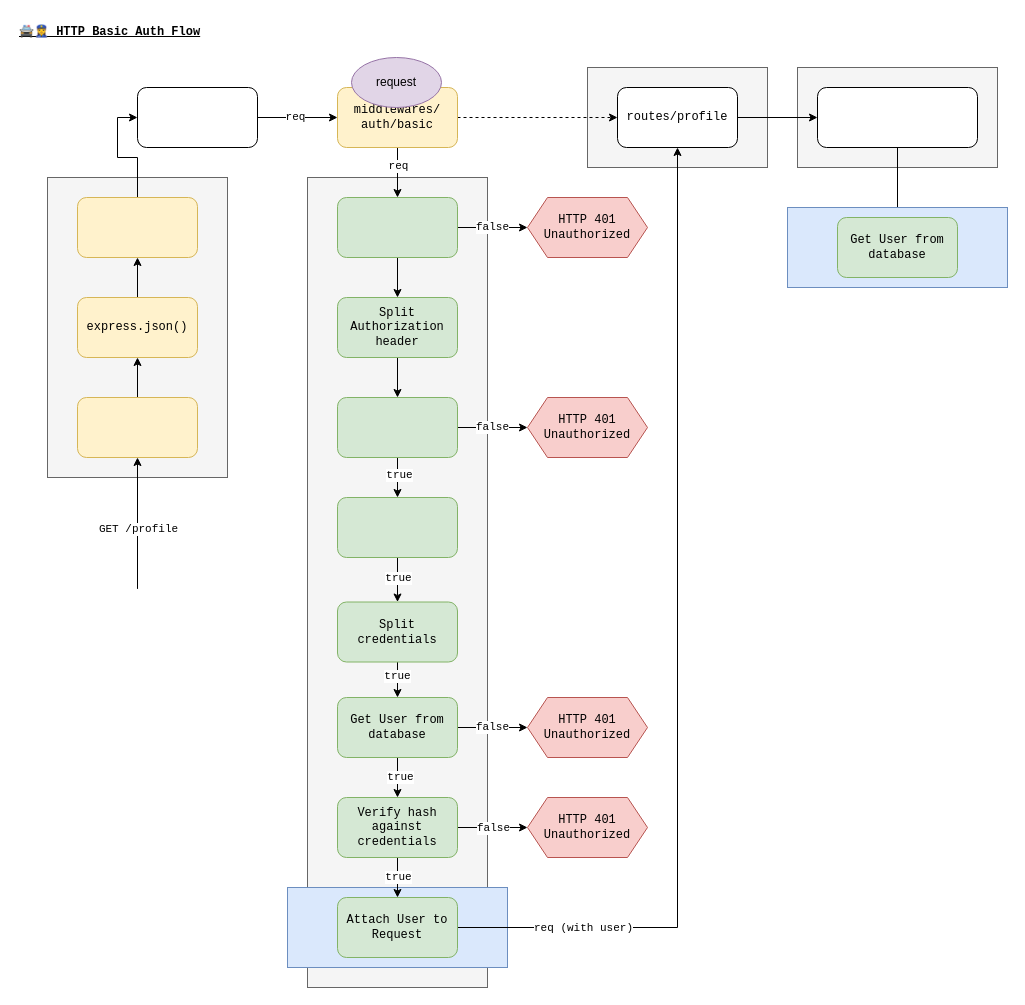
Some shapes in this 1025 by 1005 pixel diagram are drawn without their labels. Each missing label, with the box of its shape:
controllers/ profile_controller: (816, 86, 978, 148)
cors(): (76, 396, 198, 458)
Decode credentials: (336, 496, 458, 558)
Has Authorization header?: (336, 196, 458, 258)
Is Basic?: (336, 396, 458, 458)
morgan('dev'): (76, 196, 198, 258)
routes/index: (136, 86, 258, 148)
